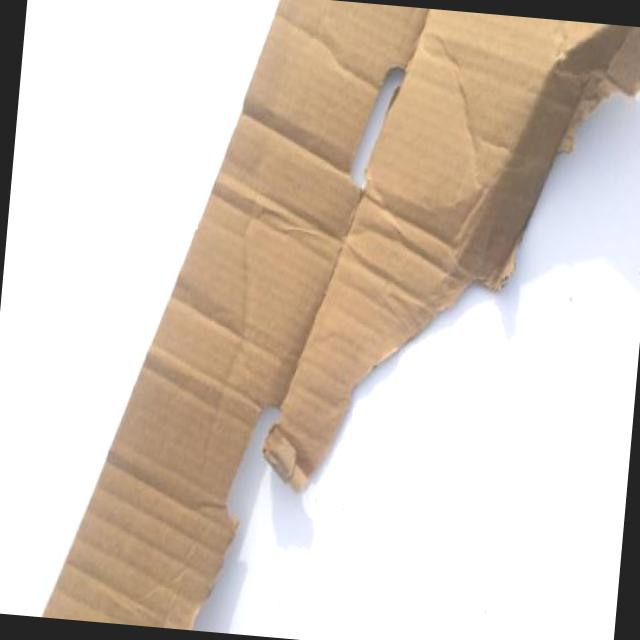cardboard: (46, 0, 639, 629)
